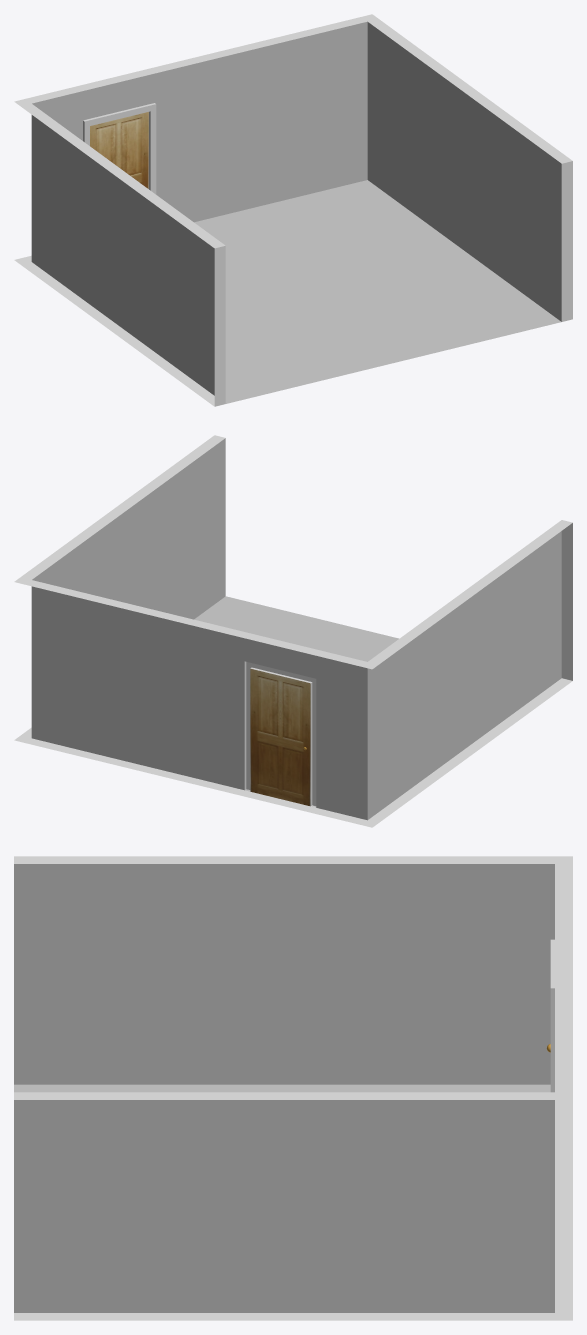
Rendered from apartment.fbx.
The picture shows the model from 3 angles, top to bottom: view 1: azimuth 30°, elevation 25°; view 2: azimuth 150°, elevation 25°; view 3: azimuth 270°, elevation 25°; orthographic projection. The views are drawn at different scales.
Parts seen in each view (by area): view 1: Cube.043; view 2: Cube.043; view 3: Cube.043.
Boxes of the visible parts, box(x1,y1,x2,y2) form: Cube.043: box(14, 14, 572, 406); Cube.043: box(14, 435, 572, 827); Cube.043: box(14, 856, 572, 1320).
Bounding box in the file's own units: 6395 × 2700 × 6200.
